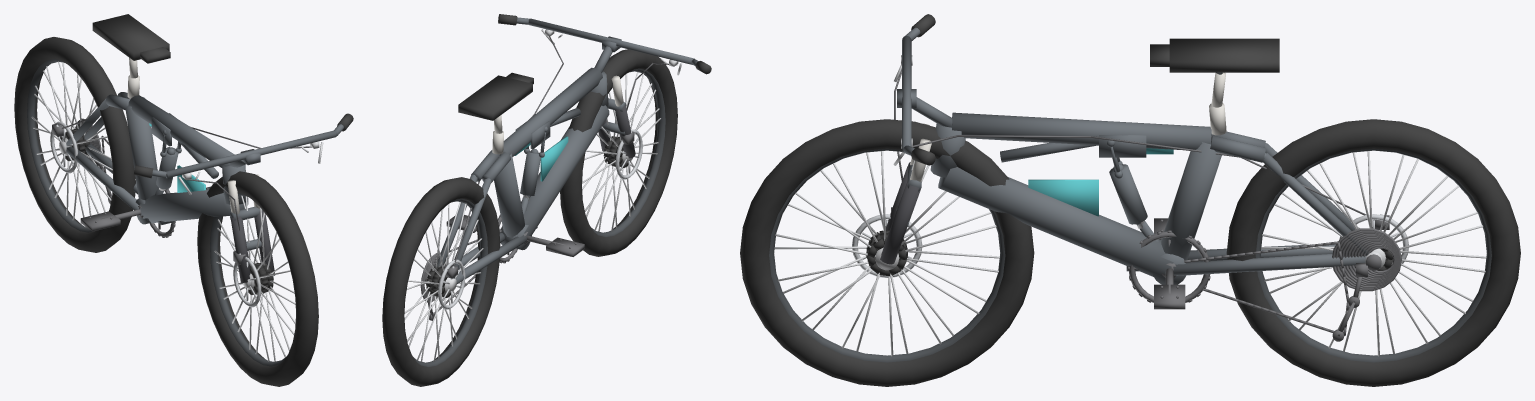
File: bike_mtb.gltf
3 views of the same model, side by side, from view 1: azimuth 30°, elevation 25°; view 2: azimuth 150°, elevation 25°; view 3: azimuth 270°, elevation 25° (orthographic). The views are drawn at different scales.
Parts seen in each view (by area): view 1: FrontWheel, RearWheel, Frame, Saddle, Handlebar, Fork, Crankset, RearShock, RearBrake; view 2: RearWheel, FrontWheel, Frame, Saddle, Handlebar, Fork, Crankset, RearShock, RearBrake; view 3: RearWheel, FrontWheel, Frame, Saddle, Handlebar, Crankset, Fork, Drivetrain, RearShock, RearBrake.
Part boxes in pixels (x1,y1,x2,y2): FrontWheel: (197,171,318,386); RearWheel: (14,37,135,252); Frame: (66,92,248,224); Saddle: (92,14,170,98); Handlebar: (133,113,353,194); Fork: (227,174,274,282); Crankset: (80,186,210,237); RearShock: (156,147,178,190); RearBrake: (52,108,311,148); RearWheel: (382,177,500,386); FrontWheel: (560,49,677,256); Frame: (437,67,609,284); Saddle: (458,72,533,154); Handlebar: (498,14,711,75); Fork: (598,75,635,158); Crankset: (446,215,584,263); RearShock: (520,148,540,201); RearBrake: (446,36,563,279); RearWheel: (1226,119,1520,386); FrontWheel: (740,119,1034,386); Frame: (930,112,1368,284); Saddle: (1150,38,1279,135); Handlebar: (893,14,952,165); Crankset: (1128,218,1210,309); Fork: (880,123,931,264); Drivetrain: (1128,241,1367,341); RearShock: (1109,164,1147,228); RearBrake: (912,135,1389,229).
Bounding box in the file's own units: 0.8592 × 0.945 × 1.99.
